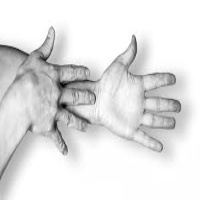ring: (57, 104, 95, 134), (141, 109, 180, 132)
